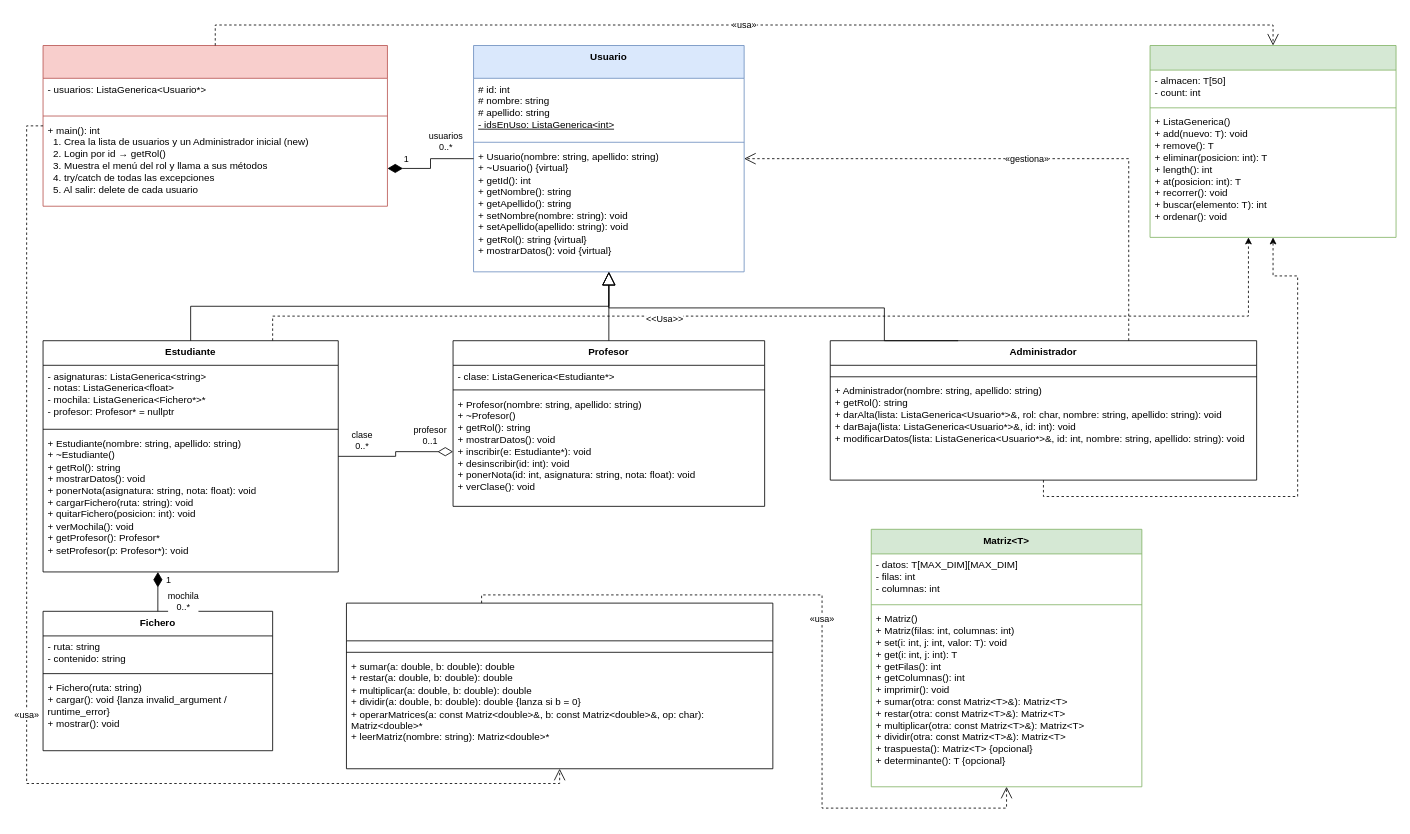
Image size: 1410x834. Some labels were removed from this diagram. The shapes that lost their labels are listed below. From the top down, each one's box as (x1, y1, x2, y2) in pixels, then its label:
(42, 45, 387, 206): «main» Instituto (main.cpp)
(1149, 45, 1396, 237): ListaGenerica<T>
(346, 602, 773, 769): «funciones de main.cpp» Calculadora
